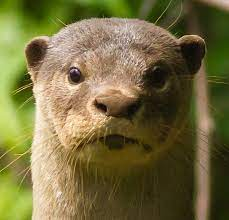otter: (21, 8, 209, 212)
